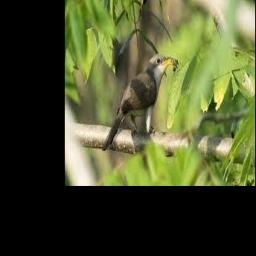Cuckoo: (102, 54, 177, 151)
